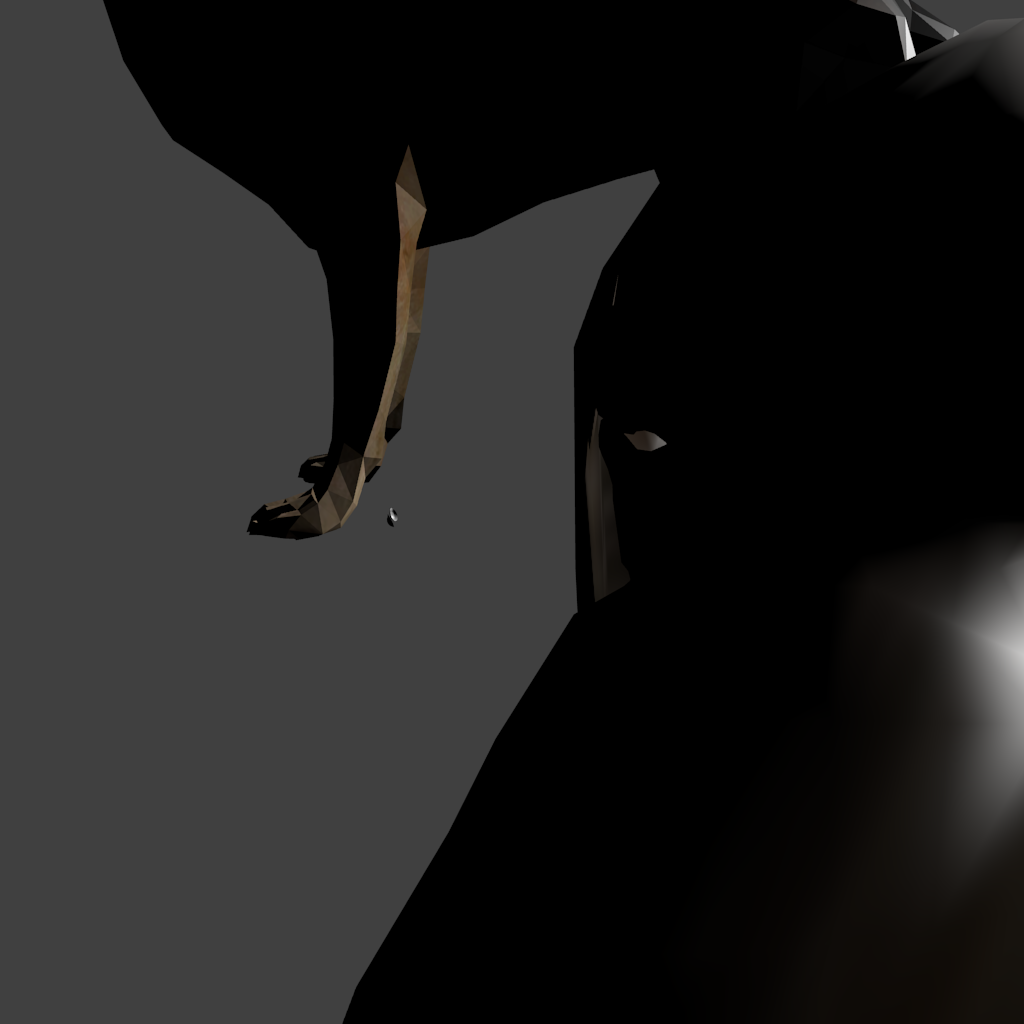Dog: (0, 0, 1024, 1024), (223, 0, 801, 1024), (0, 0, 1024, 540)
